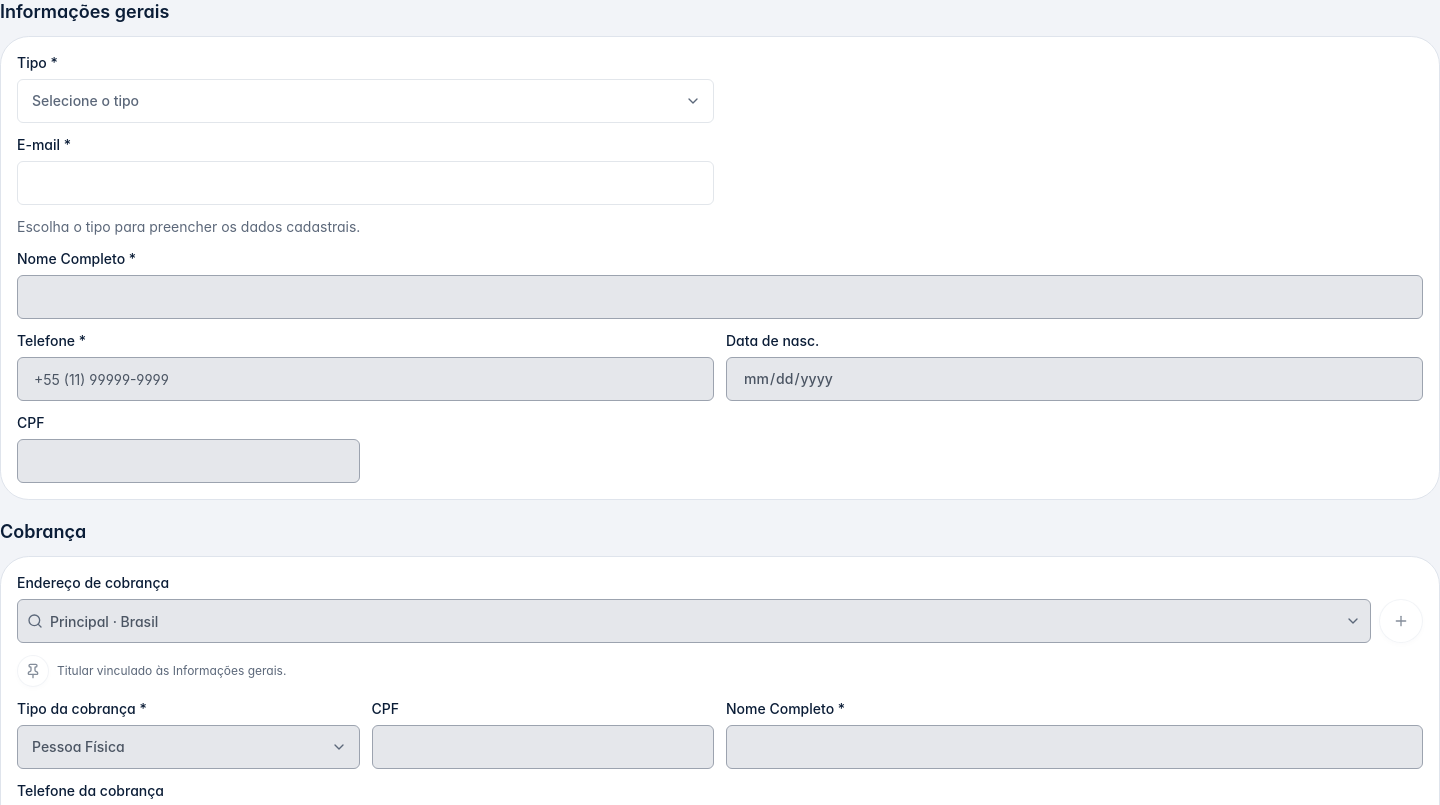
it: aviso de identidade no preenchimento › mostra duplicidade de e-mail antes de salvar no contexto cliente
Type "  Pessoa@Example.Invalid " into the field labelled "E-mail" at [366, 183], box [17, 161, 714, 205]
Wait 350 ms
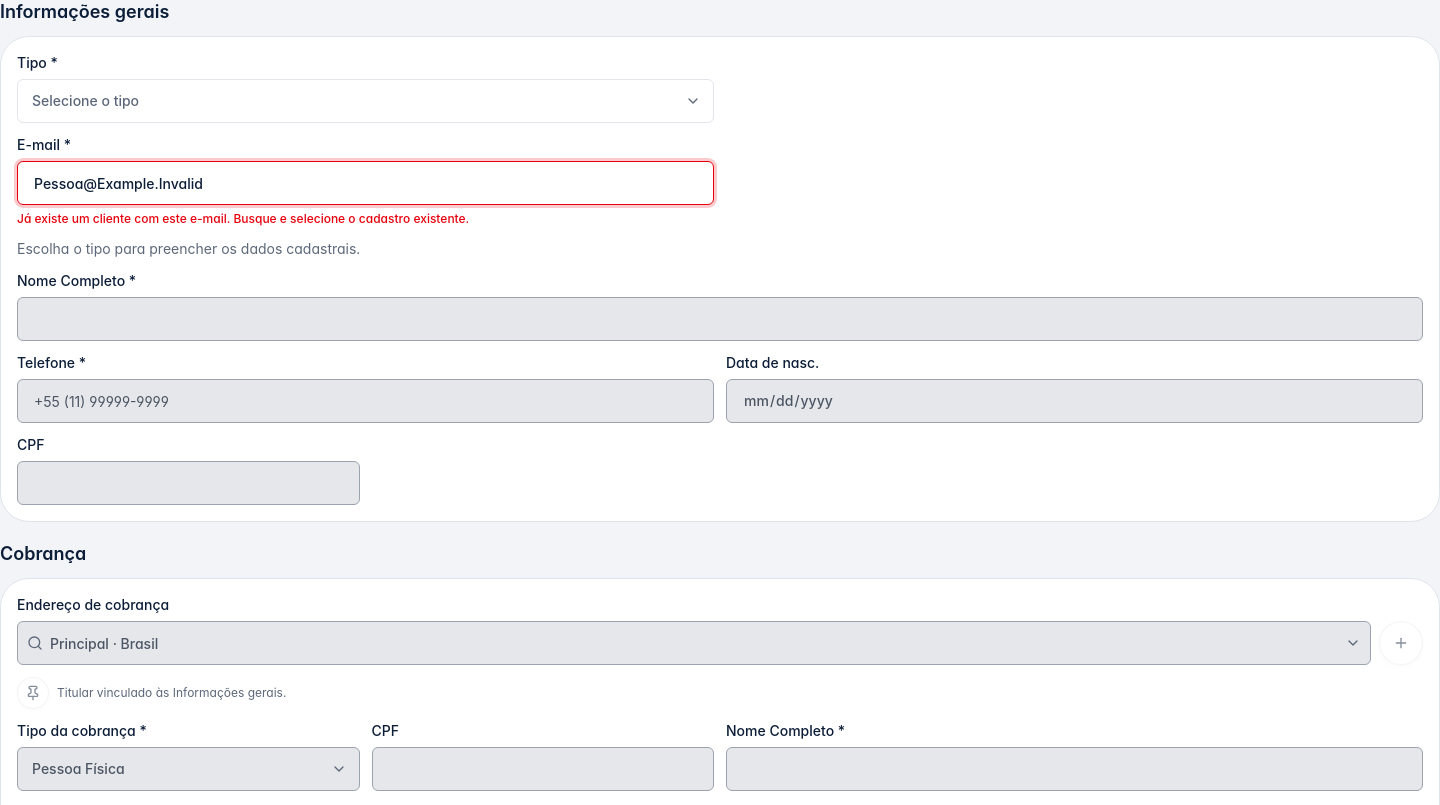
expect the message shows "Já existe um cliente com este e-mail": met, box [17, 211, 469, 226]
expect the message shows "cadastro existente": met, box [17, 211, 469, 226]
